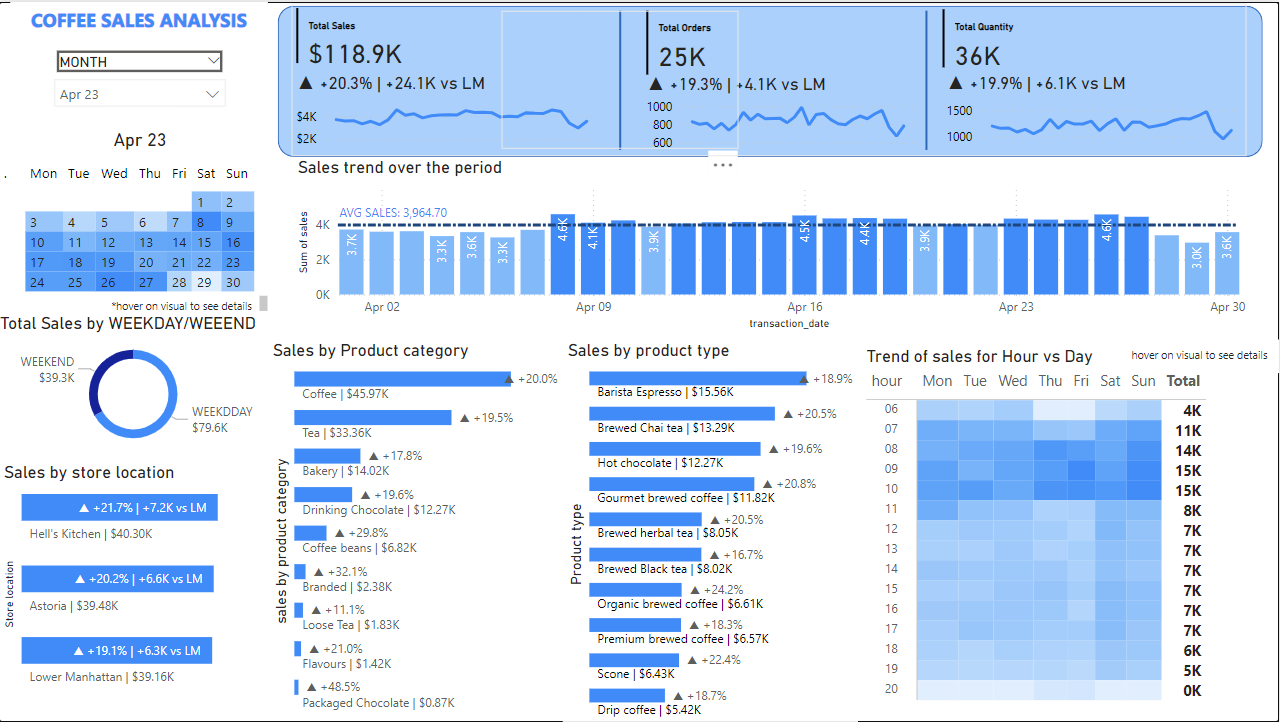

What the dashboard file says about the page in this screenshot:
{"tool":"powerbi","page":{"name":"Page 1","canvas":[1280,720],"ordinal":0},"visuals":[{"type":"cardVisual","fields":{"Data":["Transactions.total_QUANTITY_sold"]},"box":[939.3,2.1,270,68.8],"z":0,"group":"g4"},{"type":"slicer","fields":{"Values":["date_Table.MONTH year"]},"box":[45,43.8,191.2,68.8],"z":0},{"type":"cardVisual","fields":{"Data":["Transactions.total_sales"]},"box":[293.1,0.8,292.5,65],"z":1000,"group":"g4"},{"type":"cardVisual","fields":{"Data":["Transactions.total_QUANTITY_sold"]},"box":[711.2,18.8,267.5,81.2],"z":1000},{"type":"cardVisual","fields":{"Data":["Transactions.Total_orders"]},"box":[643.4,2.8,239.1,74.3],"z":2000,"group":"g4"},{"type":"lineChart","fields":{"Category":["date_Table.Date Hierarchy.Date"],"Y":["Transactions.total_QUANTITY_sold"]},"box":[943.1,69.6,305,81.2],"z":2000,"group":"g2"},{"type":"donutChart","fields":{"Category":["date_Table.WEEKDAY/WEEEND"],"Y":["Transactions.total_sales"]},"box":[0,311.2,268.8,138.8],"z":2000},{"type":"lineChart","fields":{"Category":["date_Table.Date Hierarchy.Date"],"Y":["Transactions.total_sales"]},"box":[293.2,69.5,310.5,81],"z":3000,"group":"g4"},{"type":"group","id":"g1","title":"Group 2","box":[0,108,260,202.6],"z":3000},{"type":"clusteredBarChart","title":"Sales by store location","fields":{"Category":["Transactions.store_location"],"Y":["Sum(Transactions.sales)","Transactions.pipeholder"]},"box":[0,460,268.8,237.5],"z":4000},{"type":"lineChart","fields":{"Category":["date_Table.Date Hierarchy.Date"],"Y":["Transactions.Total_orders"]},"box":[643.1,70.8,277.5,83.8],"z":5000,"group":"g4"},{"type":"columnChart","title":"Sales trend over the period","fields":{"Category":["Transactions.transaction_date"],"Y":["Sum(Transactions.sales)"]},"box":[293.8,155,958.8,177.5],"z":5000},{"type":"pivotTable","fields":{"Columns":["date_Table.day_name"],"Rows":["date_Table.week_number"],"Values":["Min(date_Table.date_num)"]},"box":[0,155.1,260,155.5],"z":5000,"group":"g5"},{"type":"shape","box":[502.7,7.9,237.4,139.3],"z":6000,"group":"g4"},{"type":"cardVisual","fields":{"Data":["Min(date_Table.MONTH year)"]},"box":[97.5,108,87.5,47.5],"z":6000,"group":"g5"},{"type":"clusteredBarChart","title":"Sales by Product category","fields":{"Y":["Sum(Transactions.sales)","Transactions.pipeholder"],"Category":["Transactions.product_category"]},"box":[268.8,337.5,295,376.2],"z":6000},{"type":"shape","box":[808.9,7.9,237.4,139.3],"z":7000,"group":"g4"},{"type":"clusteredBarChart","title":"Sales by product type","fields":{"Y":["Sum(Transactions.sales)","Transactions.pipeholder"],"Category":["Transactions.product_type"]},"box":[563.8,337.5,295,382.5],"z":7000},{"type":"shape","box":[278.8,3.8,985,151.2],"z":8000},{"type":"group","id":"g2","title":"Group 6","box":[293.1,0.8,955,153.8],"z":9000},{"type":"group","id":"g3","title":"Group 3","box":[862.5,343.8,362.5,370],"z":10000},{"type":"textbox","box":[11.2,0,257.5,43.8],"z":11000},{"type":"pivotTable","title":"Trend of sales for Hour vs Day ","fields":{"Rows":["Transactions.trasactiom hour"],"Columns":["date_Table.day_name"],"Values":["Sum(Transactions.sales)"]},"box":[862.5,343.8,362.5,370],"z":11000,"group":"g3"},{"type":"group","id":"g4","title":"Group 5","box":[293.1,0.8,916.2,153.8],"z":12000,"group":"g2"},{"type":"textbox","box":[110,276.2,158.8,35],"z":12000},{"type":"textbox","box":[1127.5,337.5,152.5,33.8],"z":13000},{"type":"group","id":"g5","title":"Group 4","box":[0,108,260,202.6],"z":13002,"group":"g1"}]}

Visuals, with their boxes in screenshot pixels (x1, y1, x2, y2), scaled from the page's 1280x720 canvas onto the 1280x722 screenshot:
cardVisual - Transactions.total_QUANTITY_sold: rect(939, 2, 1209, 71)
slicer - date_Table.MONTH year: rect(45, 44, 236, 113)
cardVisual - Transactions.total_sales: rect(293, 1, 586, 66)
cardVisual - Transactions.total_QUANTITY_sold: rect(711, 19, 979, 100)
cardVisual - Transactions.Total_orders: rect(643, 3, 882, 77)
lineChart - date_Table.Date Hierarchy.Date x Transactions.total_QUANTITY_sold: rect(943, 70, 1248, 151)
donutChart - date_Table.WEEKDAY/WEEEND x Transactions.total_sales: rect(0, 312, 269, 451)
lineChart - date_Table.Date Hierarchy.Date x Transactions.total_sales: rect(293, 70, 604, 151)
"Group 2" group: rect(0, 108, 260, 311)
"Sales by store location" clusteredBarChart: rect(0, 461, 269, 699)
lineChart - date_Table.Date Hierarchy.Date x Transactions.Total_orders: rect(643, 71, 921, 155)
"Sales trend over the period" columnChart: rect(294, 155, 1253, 333)
pivotTable - date_Table.day_name x date_Table.week_number: rect(0, 156, 260, 311)
shape: rect(503, 8, 740, 148)
cardVisual - Min(date_Table.MONTH year): rect(98, 108, 185, 156)
"Sales by Product category" clusteredBarChart: rect(269, 338, 564, 716)
shape: rect(809, 8, 1046, 148)
"Sales by product type" clusteredBarChart: rect(564, 338, 859, 721)
shape: rect(279, 4, 1264, 155)
"Group 6" group: rect(293, 1, 1248, 155)
"Group 3" group: rect(862, 345, 1225, 716)
textbox: rect(11, 0, 269, 44)
"Trend of sales for Hour vs Day " pivotTable: rect(862, 345, 1225, 716)
"Group 5" group: rect(293, 1, 1209, 155)
textbox: rect(110, 277, 269, 312)
textbox: rect(1128, 338, 1279, 372)
"Group 4" group: rect(0, 108, 260, 311)
